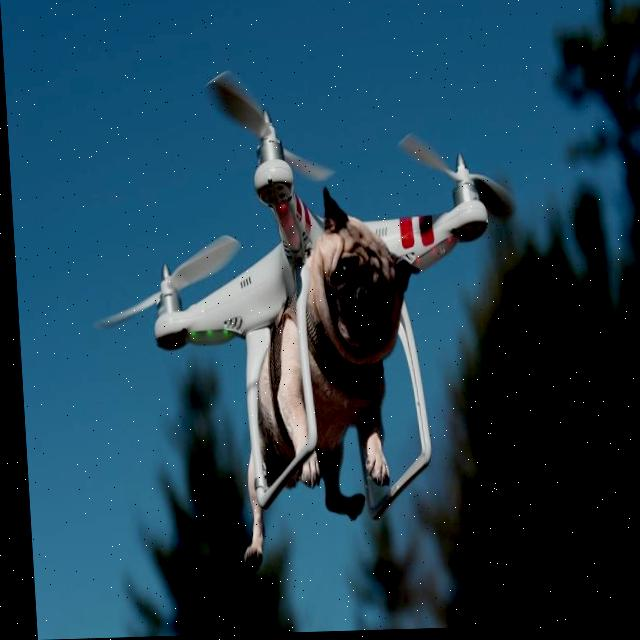drone: (123, 85, 508, 445)
